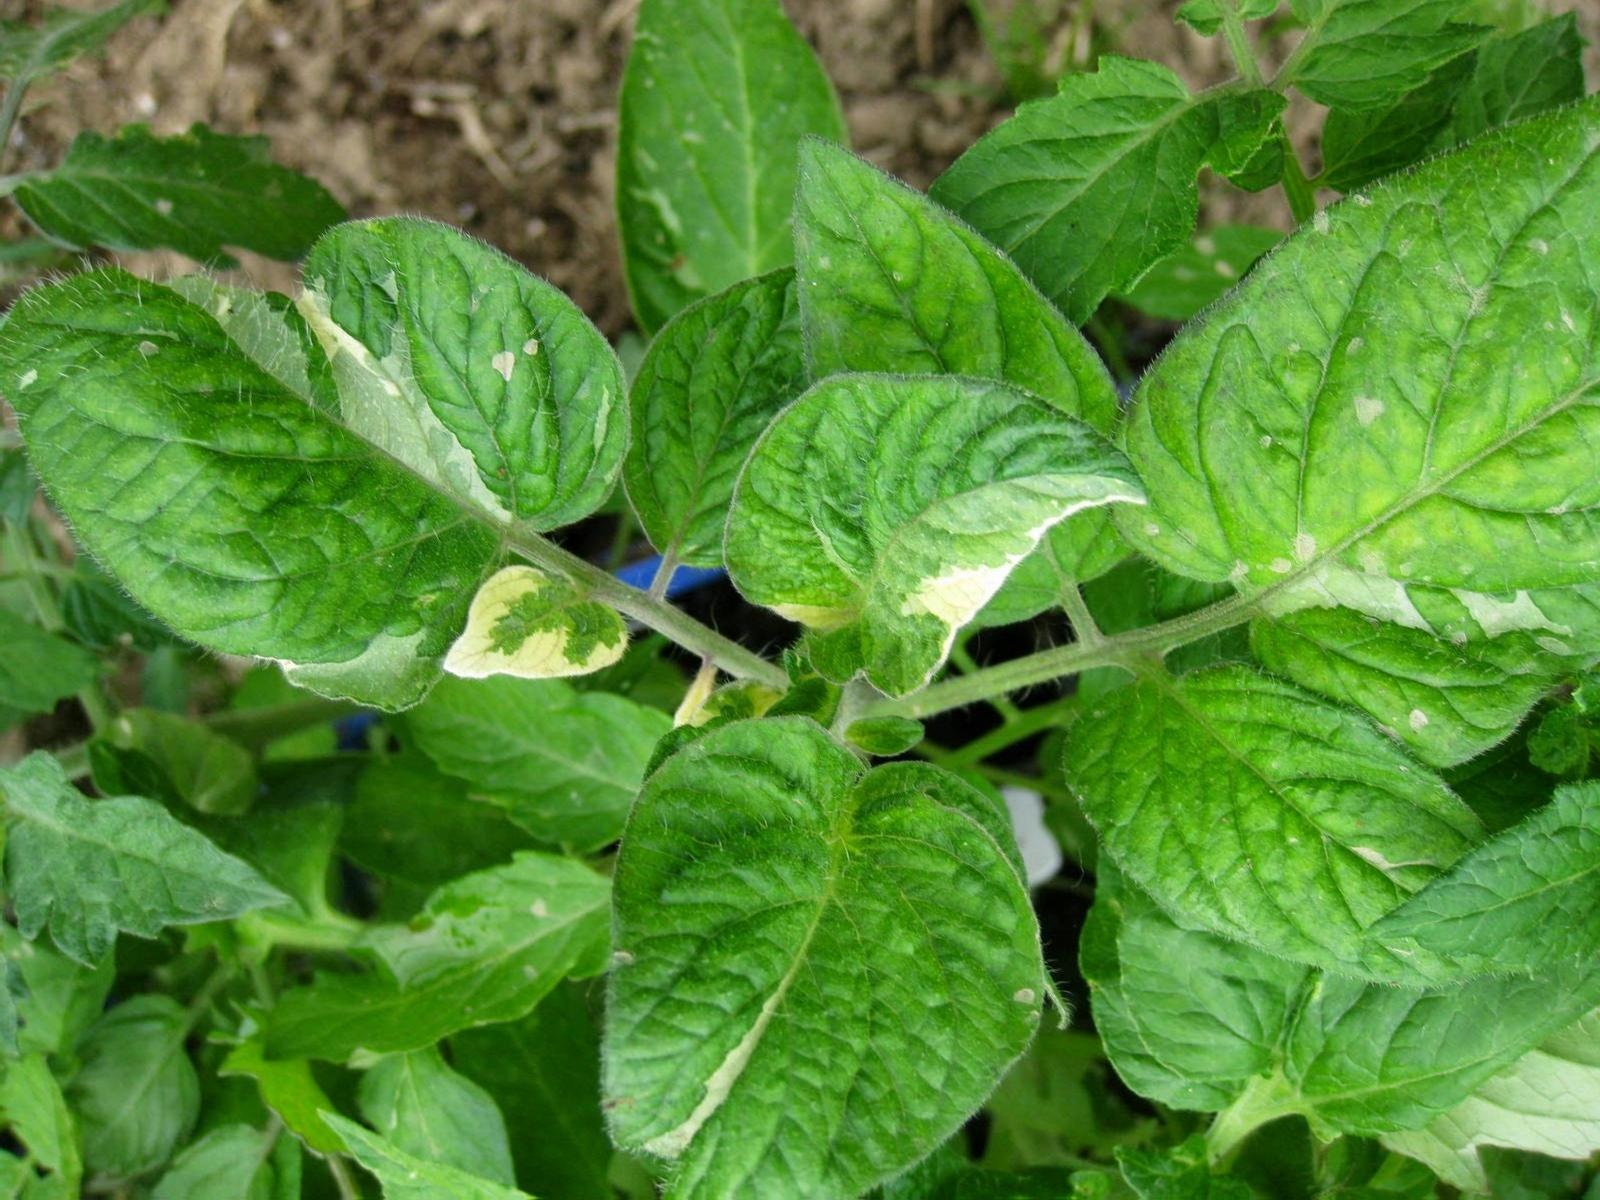Tomato leaf: (592, 706, 1053, 1195), (1072, 687, 1477, 978), (1, 757, 298, 968)
